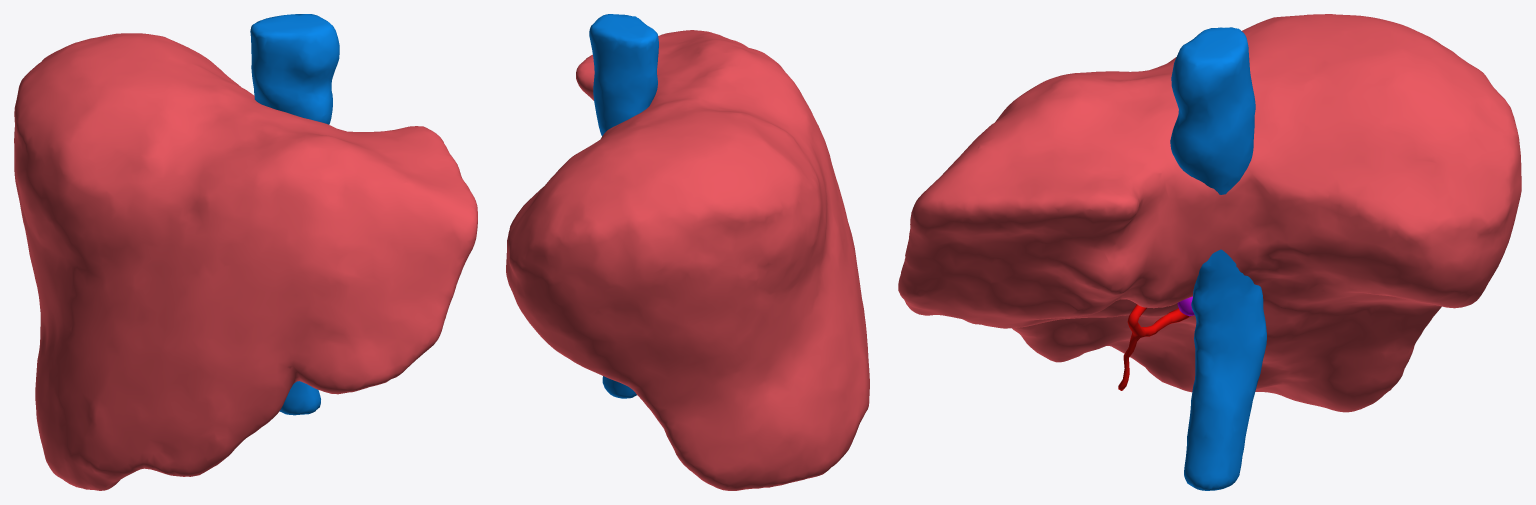
Rendered from 2_liver_withOneTumor 1.fbx.
The picture shows the model from 3 angles, left to right: view 1: azimuth 30°, elevation 25°; view 2: azimuth 150°, elevation 25°; view 3: azimuth 270°, elevation 25°; orthographic projection. The views are drawn at different scales.
Visible parts, largest first — view 1: Parenchyma_easy_2, Venous_easy_2; view 2: Parenchyma_easy_2, Venous_easy_2; view 3: Parenchyma_easy_2, Venous_easy_2, Arterial_easy_2.
Boxes of the visible parts, x1,y1,x2,y2 form: Parenchyma_easy_2: (14, 33, 477, 490); Venous_easy_2: (250, 14, 339, 415); Parenchyma_easy_2: (506, 30, 869, 490); Venous_easy_2: (589, 14, 658, 398); Parenchyma_easy_2: (898, 14, 1521, 412); Venous_easy_2: (1170, 27, 1266, 490); Arterial_easy_2: (1118, 304, 1190, 390).
Size of the model in its own units: 70.2 by 83.56 by 101.
